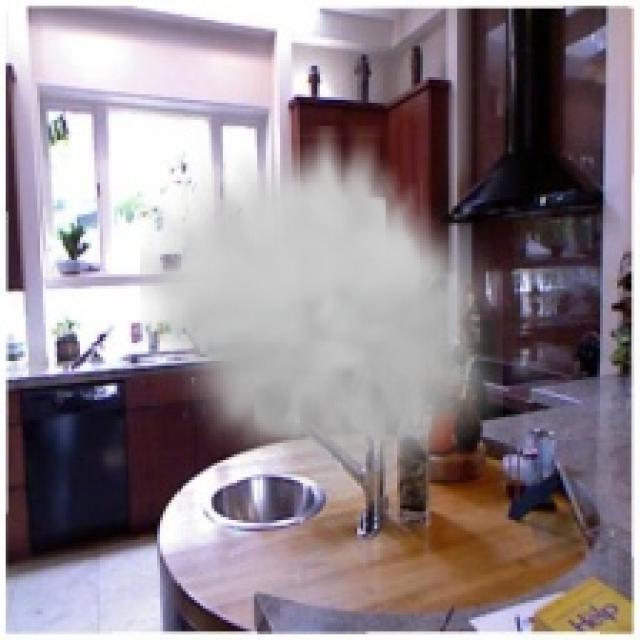Smoke: (140, 126, 503, 506)
